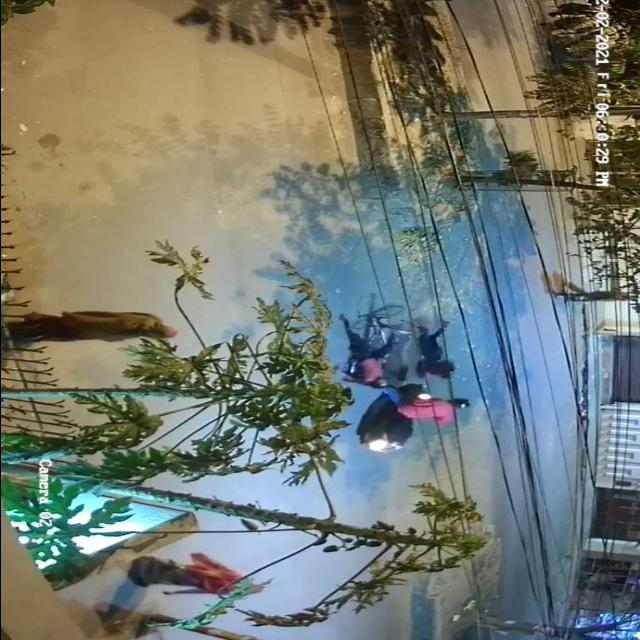accident: (319, 305, 477, 451)
